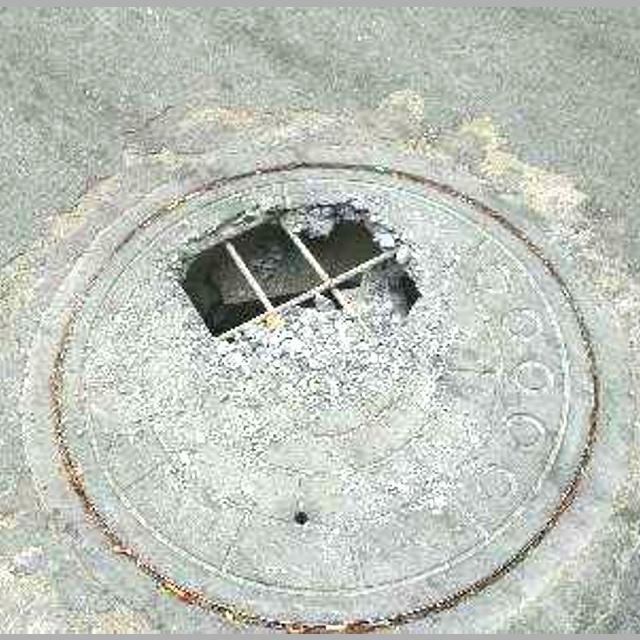broke: (30, 162, 599, 629)
